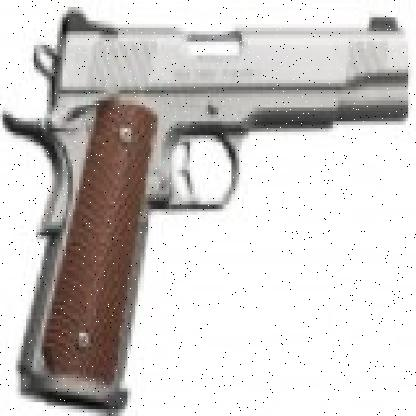pistol: (5, 7, 403, 413)
